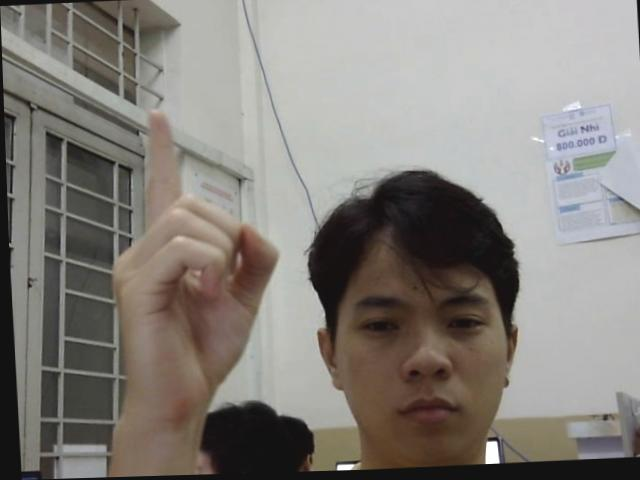D: (101, 103, 284, 417)
